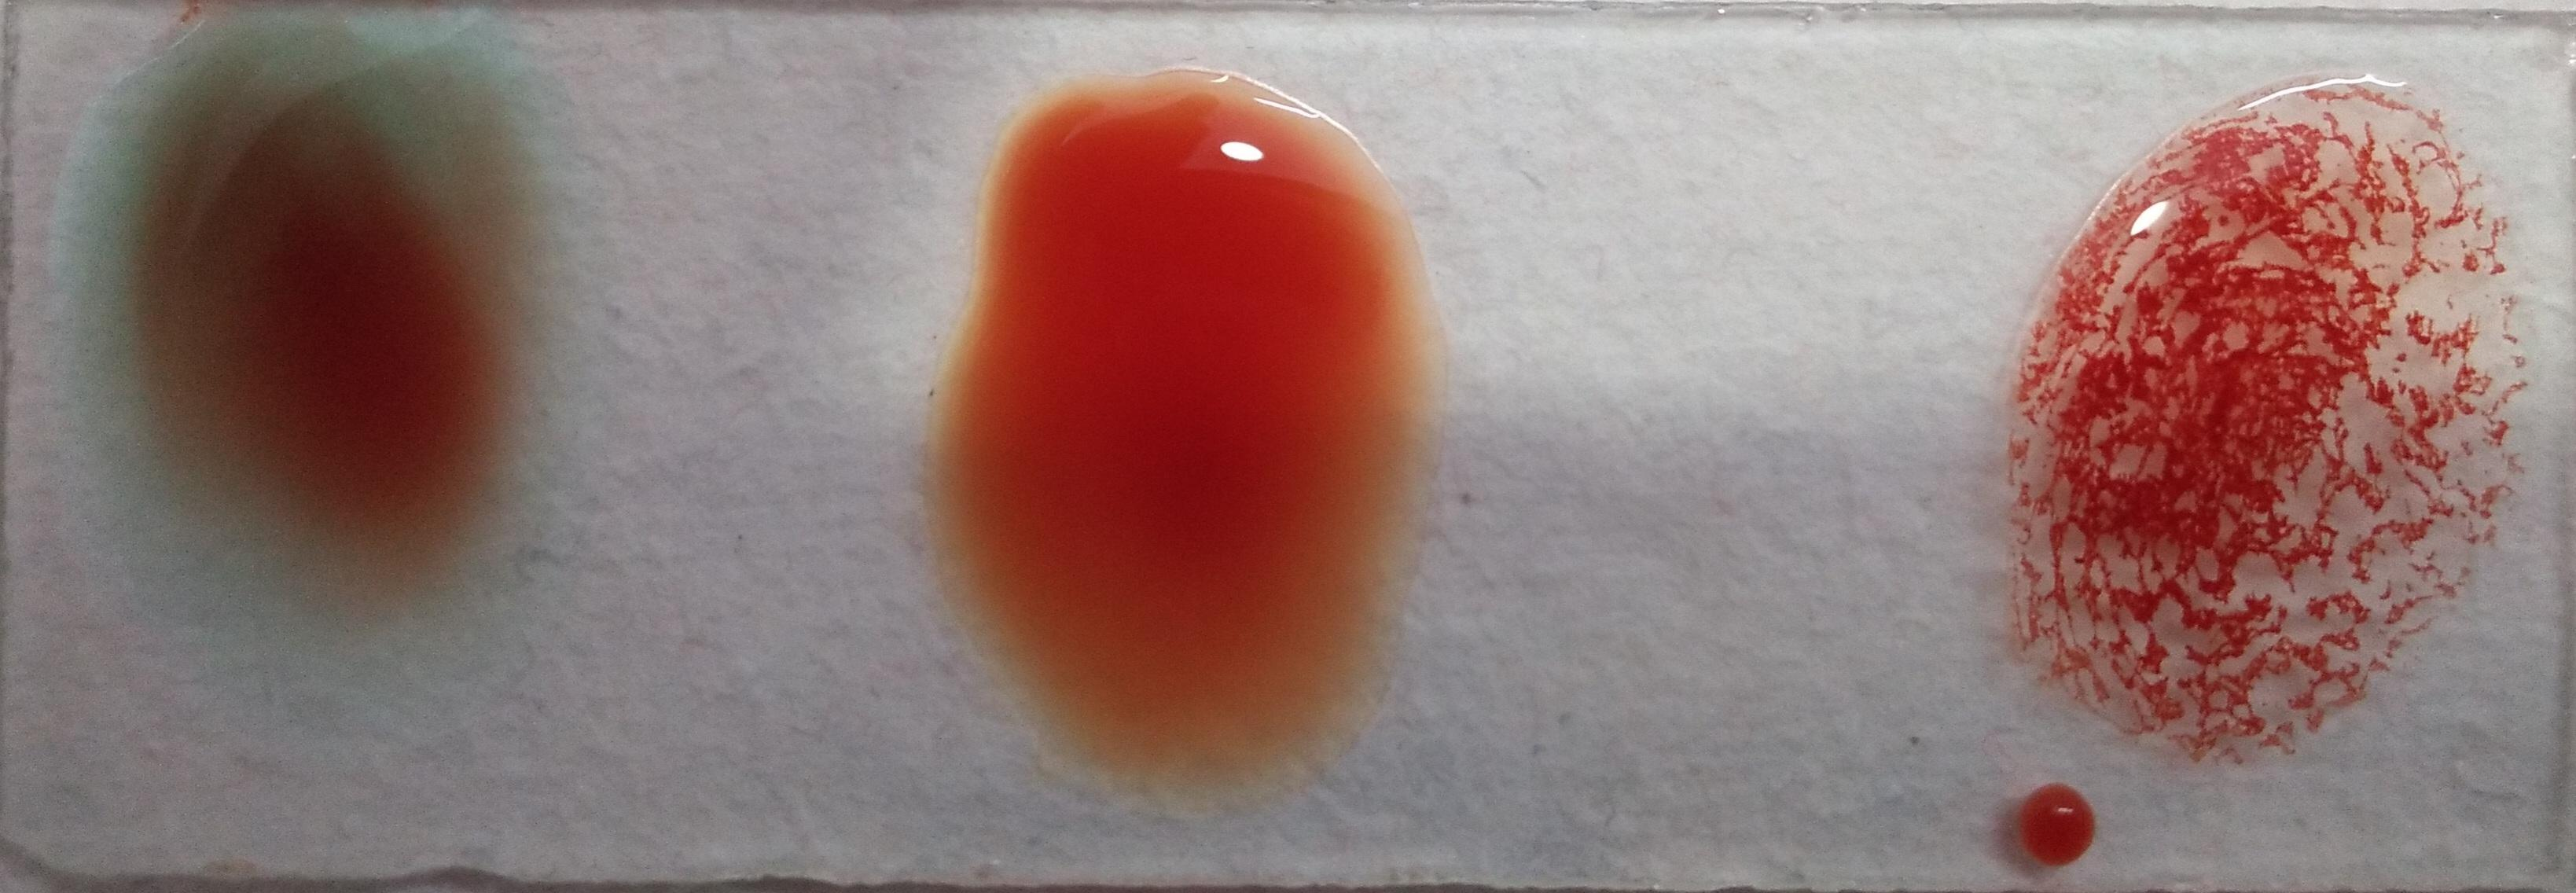D: (2008, 64, 2492, 753)
